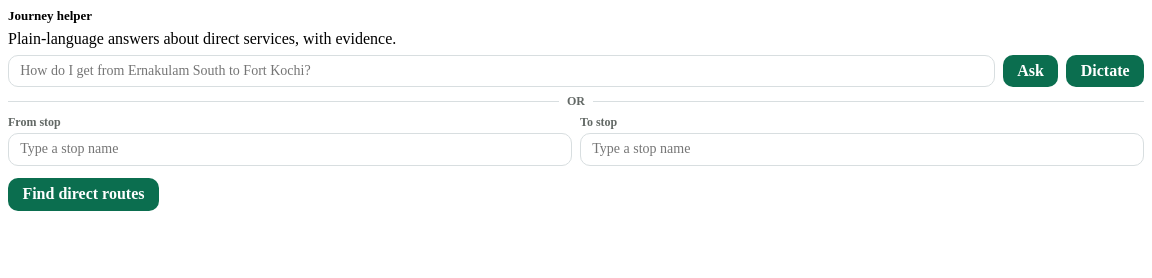
Test: JourneyPanel › labels refusals with the same unverified family
In the field named "your journey question": point(501, 71) [8, 55, 995, 87], type "How do I get nowhere?"
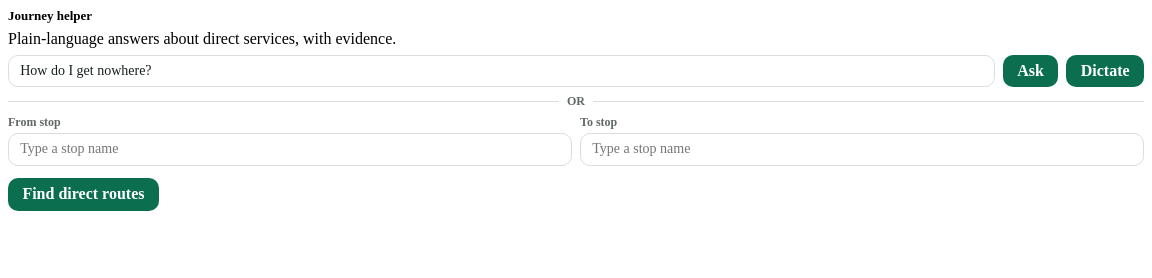
Click the button "Ask": point(1031, 71) [1003, 55, 1058, 87]
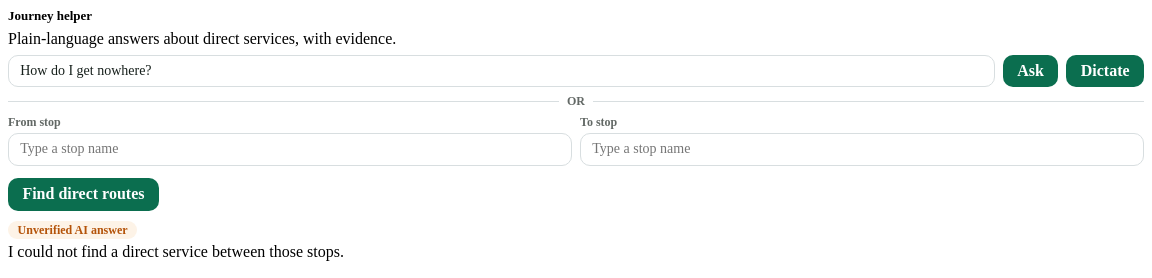
Result: the text "I could not find a direct service between those stops." is shown at [8, 243, 344, 260]
Result: the text "Unverified AI answer" is shown at [8, 221, 137, 239]
